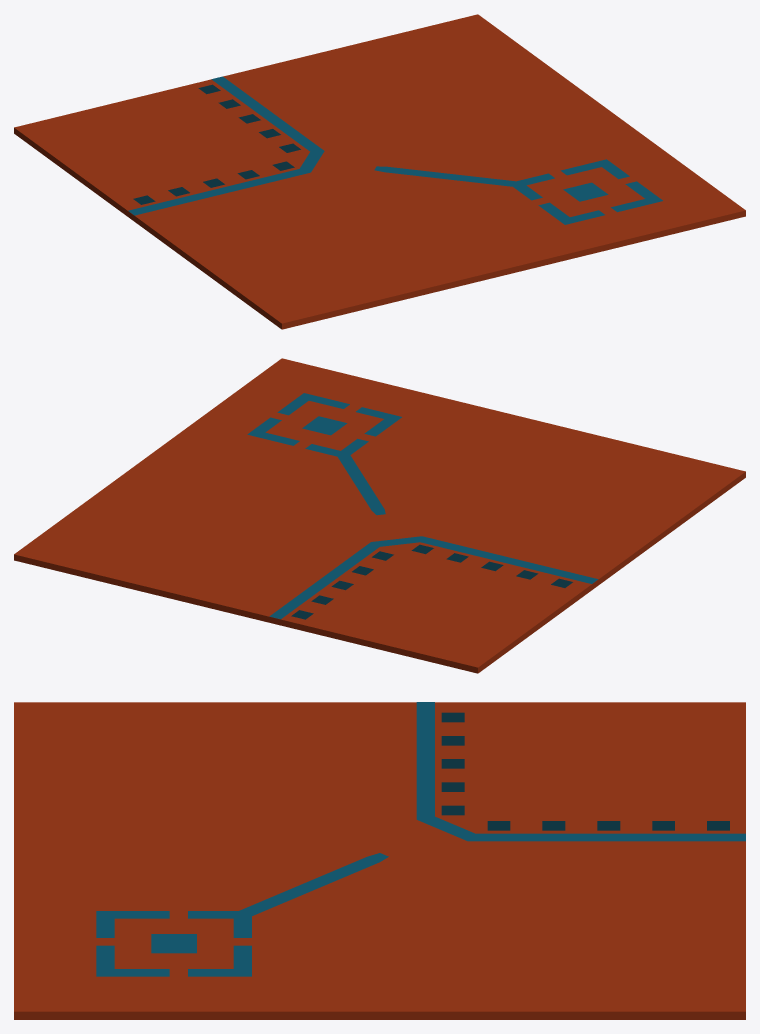
File: Tile_3-1A.fbx
3 views of the same model, one above another, from view 1: azimuth 30°, elevation 25°; view 2: azimuth 150°, elevation 25°; view 3: azimuth 270°, elevation 25° (orthographic). The views are drawn at different scales.
Parts seen in each view (by area): view 1: Tile_3-1A; view 2: Tile_3-1A; view 3: Tile_3-1A.
Boxes of the visible parts, x1,y1,x2,y2 form: Tile_3-1A: (14, 14, 745, 329); Tile_3-1A: (14, 358, 745, 673); Tile_3-1A: (14, 702, 745, 1019).
Bounding box in the file's own units: 4 × 4 × 0.051.
